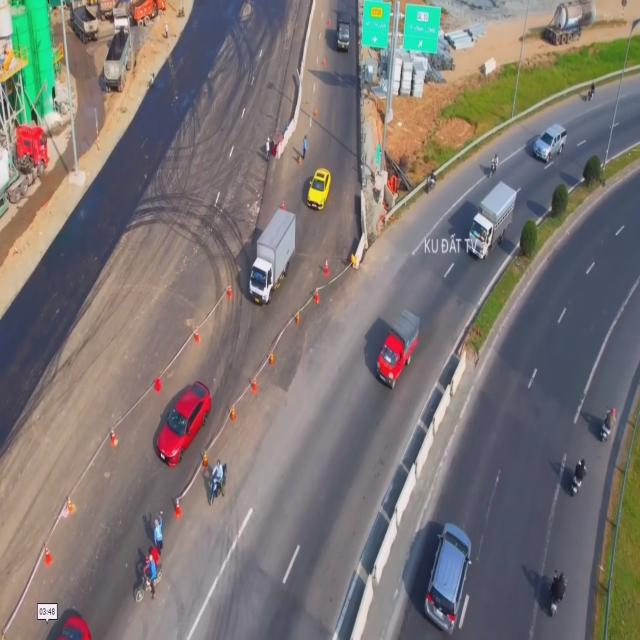car: (422, 521, 472, 637), (153, 378, 213, 467), (53, 608, 99, 640), (534, 120, 568, 161), (306, 165, 331, 212)
motorbike: (132, 557, 164, 606), (204, 458, 230, 507), (549, 569, 566, 617), (599, 405, 617, 443), (572, 457, 586, 497), (490, 153, 499, 180)
truck: (247, 205, 298, 308), (465, 178, 517, 261), (375, 304, 422, 389), (334, 8, 351, 51)
